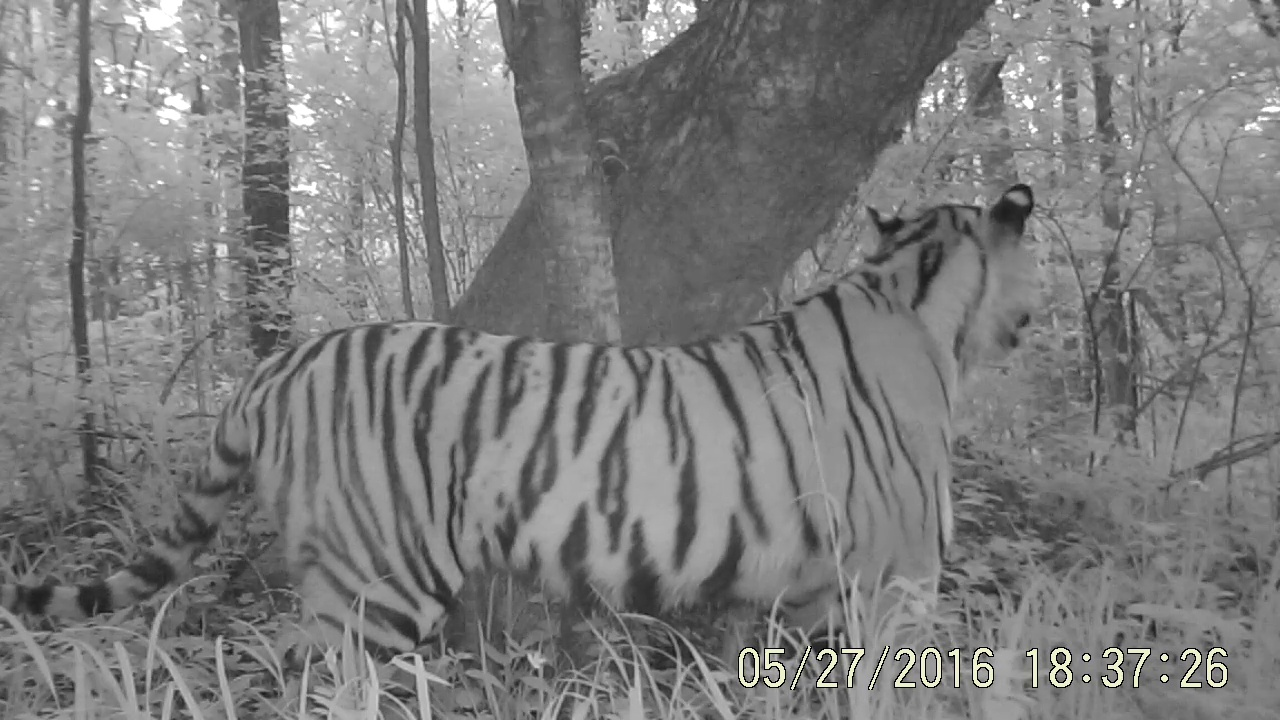Tiger: (6, 143, 1111, 700)
